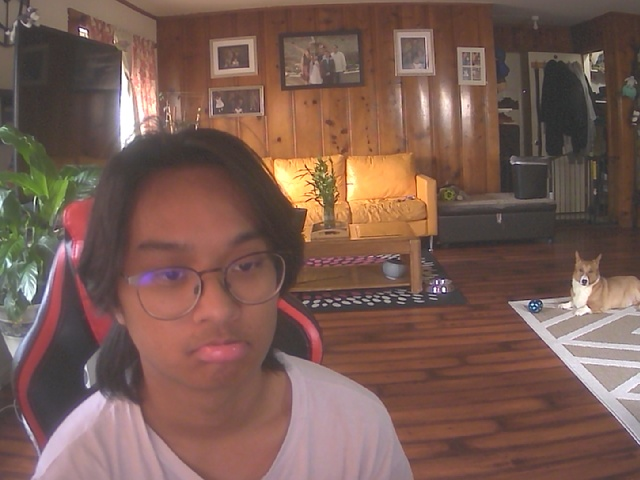sad: (104, 145, 299, 392)
